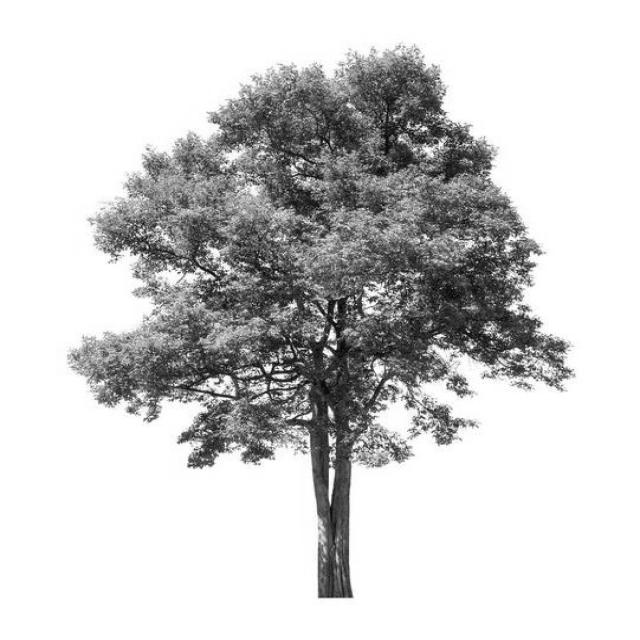Tree: (71, 47, 571, 599)
